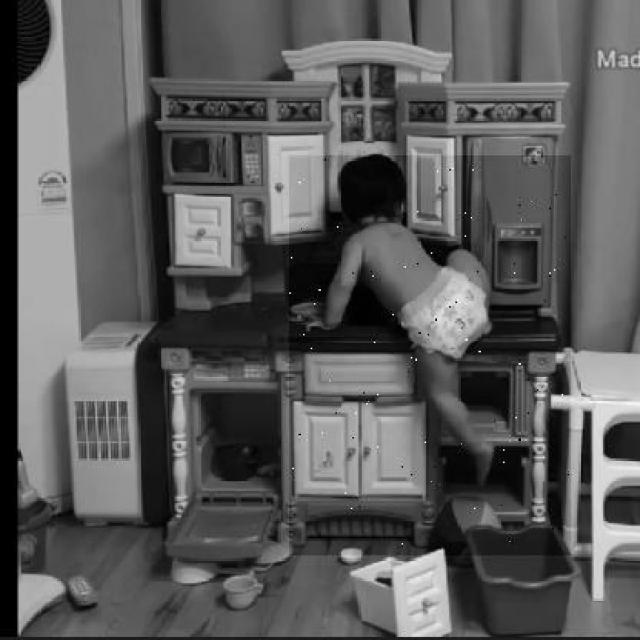child: (289, 156, 571, 556)
